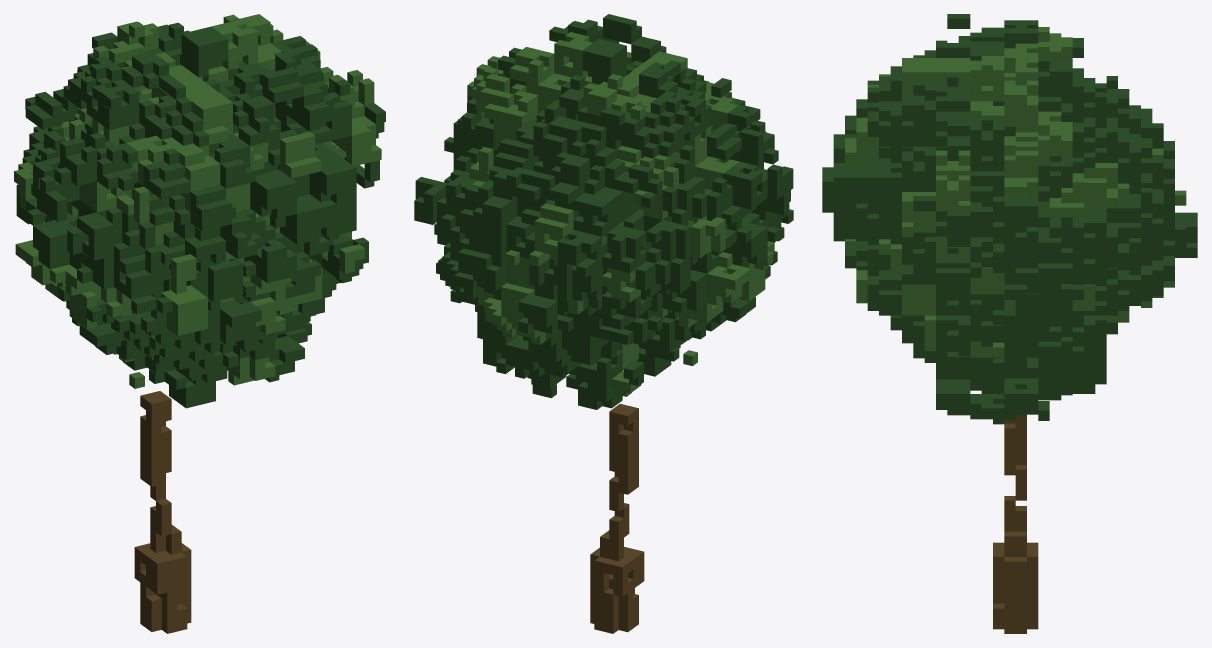
The model's file is tree_backwoods_1.obj.
3 renders of one model, left to right at view 1: azimuth 30°, elevation 25°; view 2: azimuth 150°, elevation 25°; view 3: azimuth 270°, elevation 25°, orthographic. The views are drawn at different scales.
Bounding box in the file's own units: 2.47 × 4.28 × 2.47.
1 material, 1 textured.
